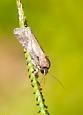army worm adult: (12, 26, 54, 76)
